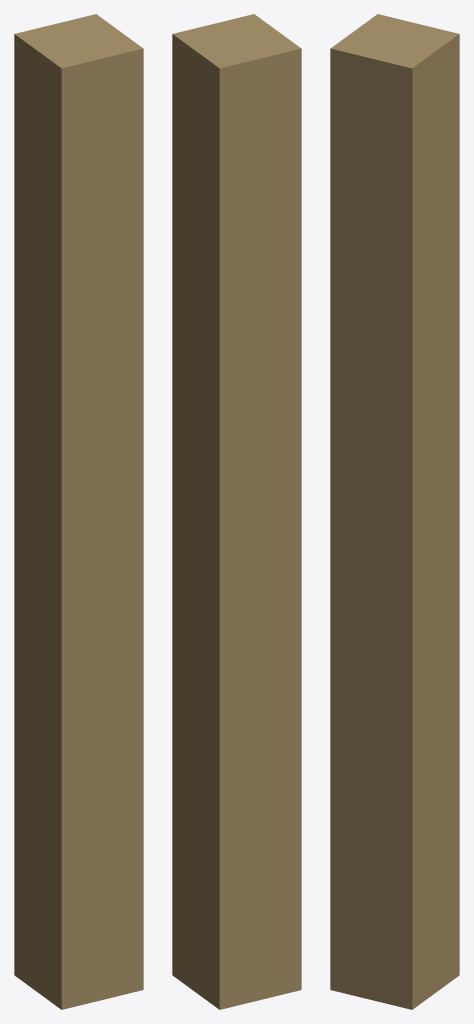
Rendered from Pillar.fbx.
The picture shows the model from 3 angles, left to right: view 1: azimuth 30°, elevation 25°; view 2: azimuth 210°, elevation 25°; view 3: azimuth 330°, elevation 25°; orthographic projection.
Parts seen in each view (by area): view 1: polySurface862; view 2: polySurface862; view 3: polySurface862.
Boxes of the visible parts, x1,y1,x2,y2 form: polySurface862: (14, 14, 143, 1009); polySurface862: (172, 14, 301, 1009); polySurface862: (330, 14, 459, 1009).
Size of the model in its own units: 1 by 11 by 1.
